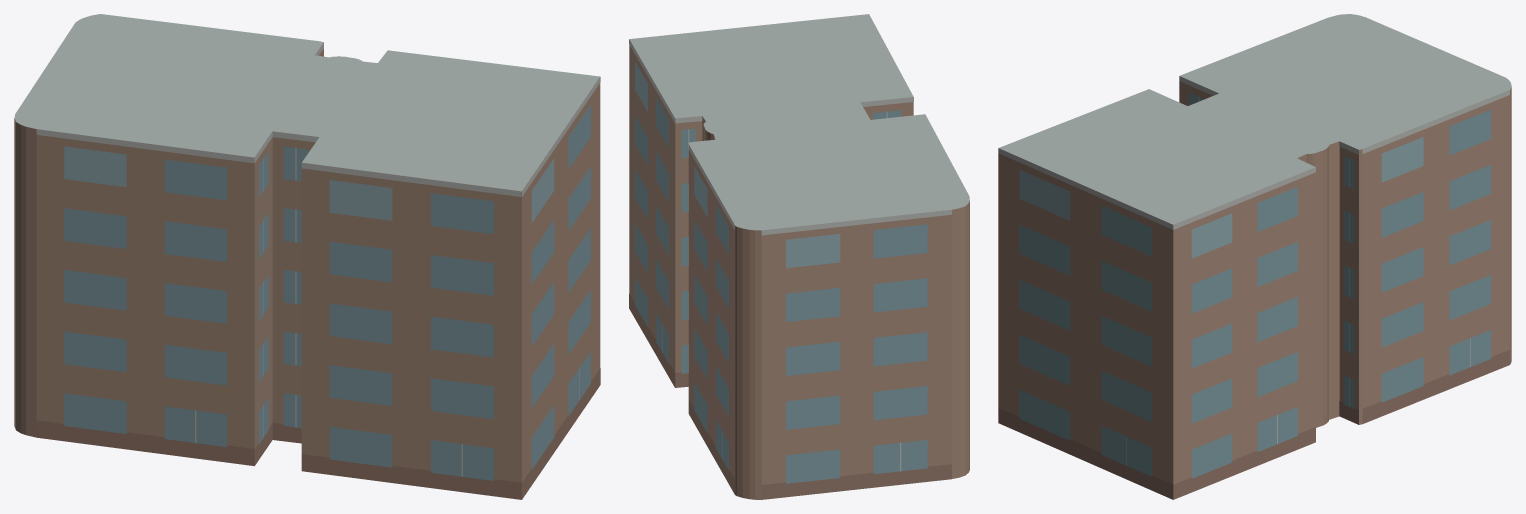
Rendered from survey-upis-32841198.glb.
3 renders of one model, left to right at view 1: azimuth 30°, elevation 25°; view 2: azimuth 150°, elevation 25°; view 3: azimuth 270°, elevation 25°, orthographic. The views are drawn at different scales.
Visible parts, largest first — view 1: survey-upis-32841198.tmp; view 2: survey-upis-32841198.tmp; view 3: survey-upis-32841198.tmp.
Part boxes in pixels (x1,y1,x2,y2): survey-upis-32841198.tmp: [14, 14, 600, 499]; survey-upis-32841198.tmp: [629, 14, 969, 499]; survey-upis-32841198.tmp: [998, 14, 1511, 499].
Bounding box in the file's own units: 21.63 × 13.15 × 22.24.
